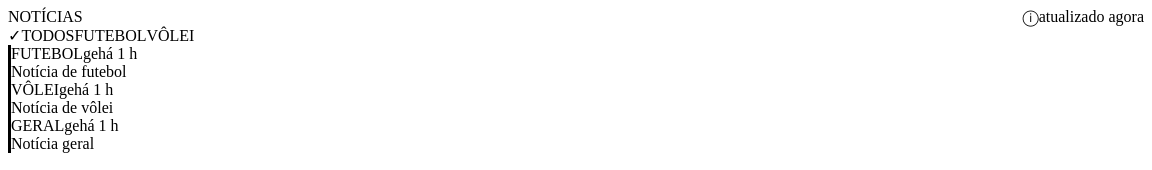
SecaoNoticias › CA-05.2 (revista): filtro por chip funciona sem reload sobre o feed único, "geral" só em "Todos"
This screenshot has width=1152, height=170.
expect the text "Notícia de futebol" is shown: met, box [11,63,126,80]
expect the text "Notícia de vôlei" is shown: met, box [11,99,113,116]
What coordinates should you click on to do the following:
click the button "Vôlei"
I would click on:
 (170, 36)
Its box is [146,26,194,45].
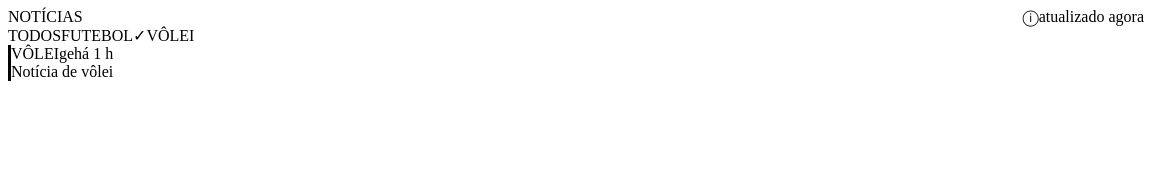
expect the text "Notícia de vôlei" is shown: met, box [11,63,113,80]
expect the link "Notícia de futebol" is gone: met
expect the link "Notícia geral" is gone: met
What coordinates should you click on to do the following:
click the button "Todos"
I would click on:
 (34, 36)
Its box is [8,26,61,45].
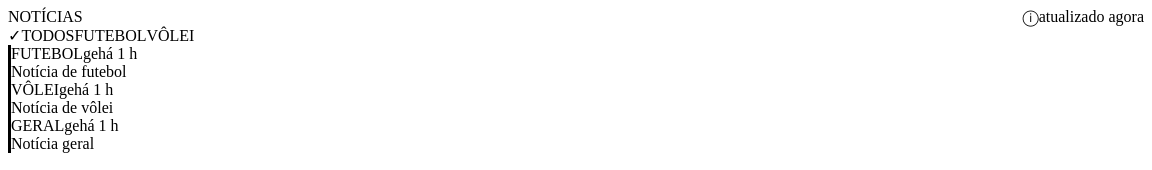
expect the text "Notícia de vôlei" is shown: met, box [11,99,113,116]
expect the text "Notícia de futebol" is shown: met, box [11,63,126,80]
expect the text "Notícia geral" is shown: met, box [11,135,94,152]
